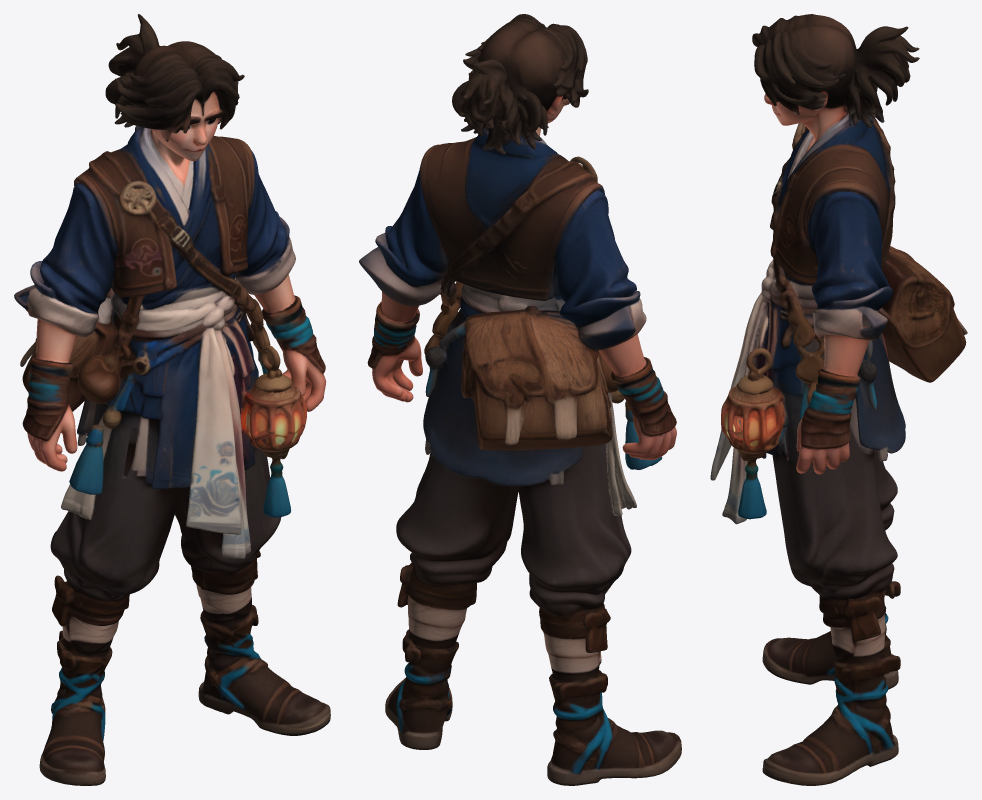
Rendered from Nhan_Vat.glb.
3 renders of one model, left to right at view 1: azimuth 30°, elevation 25°; view 2: azimuth 150°, elevation 25°; view 3: azimuth 270°, elevation 25°, orthographic.
Visible parts, largest first — view 1: world; view 2: world; view 3: world.
Boxes of the visible parts, x1,y1,x2,y2 form: world: (14,14,330,785); world: (359,14,681,785); world: (710,14,967,785).
Bounding box in the file's own units: 0.4384 × 1 × 0.3319.
1 material, 1 textured.
